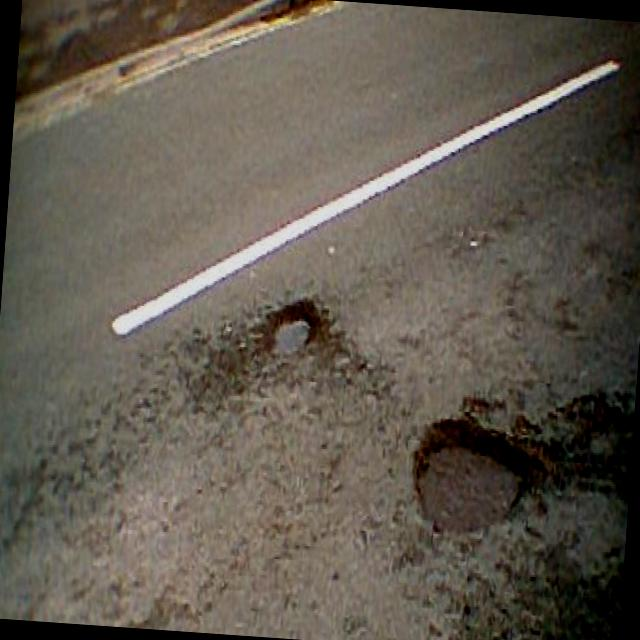Lubang: (414, 415, 543, 532), (264, 298, 321, 355)
